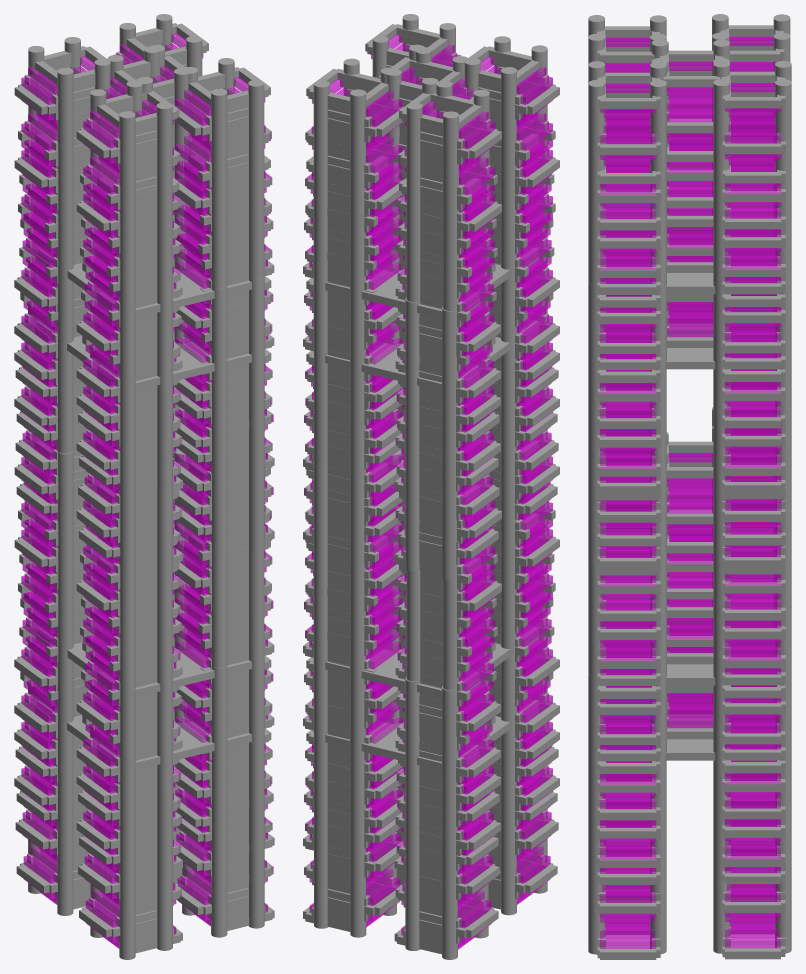
File: tower .fbx
The picture shows the model from 3 angles, left to right: view 1: azimuth 30°, elevation 25°; view 2: azimuth 150°, elevation 25°; view 3: azimuth 270°, elevation 25°; orthographic projection. The views are drawn at different scales.
Visible parts, largest first — view 1: pCube8178; view 2: pCube8178; view 3: pCube8178.
Boxes of the visible parts, box(x1,y1,x2,y2) form: pCube8178: box(14, 14, 274, 959); pCube8178: box(303, 14, 559, 959); pCube8178: box(588, 14, 791, 959).
Size of the model in its own units: 24.5 by 114 by 24.25.
